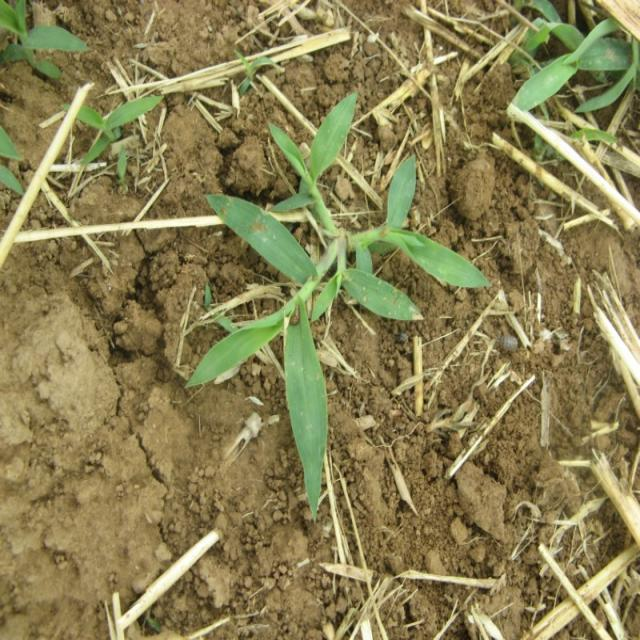bg: (191, 100, 485, 520)
